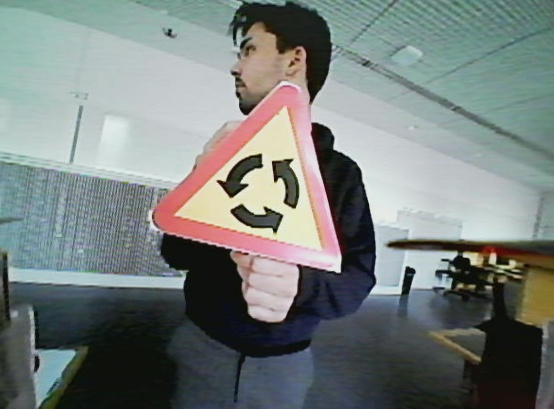roundabout_warning: (148, 78, 345, 275)
